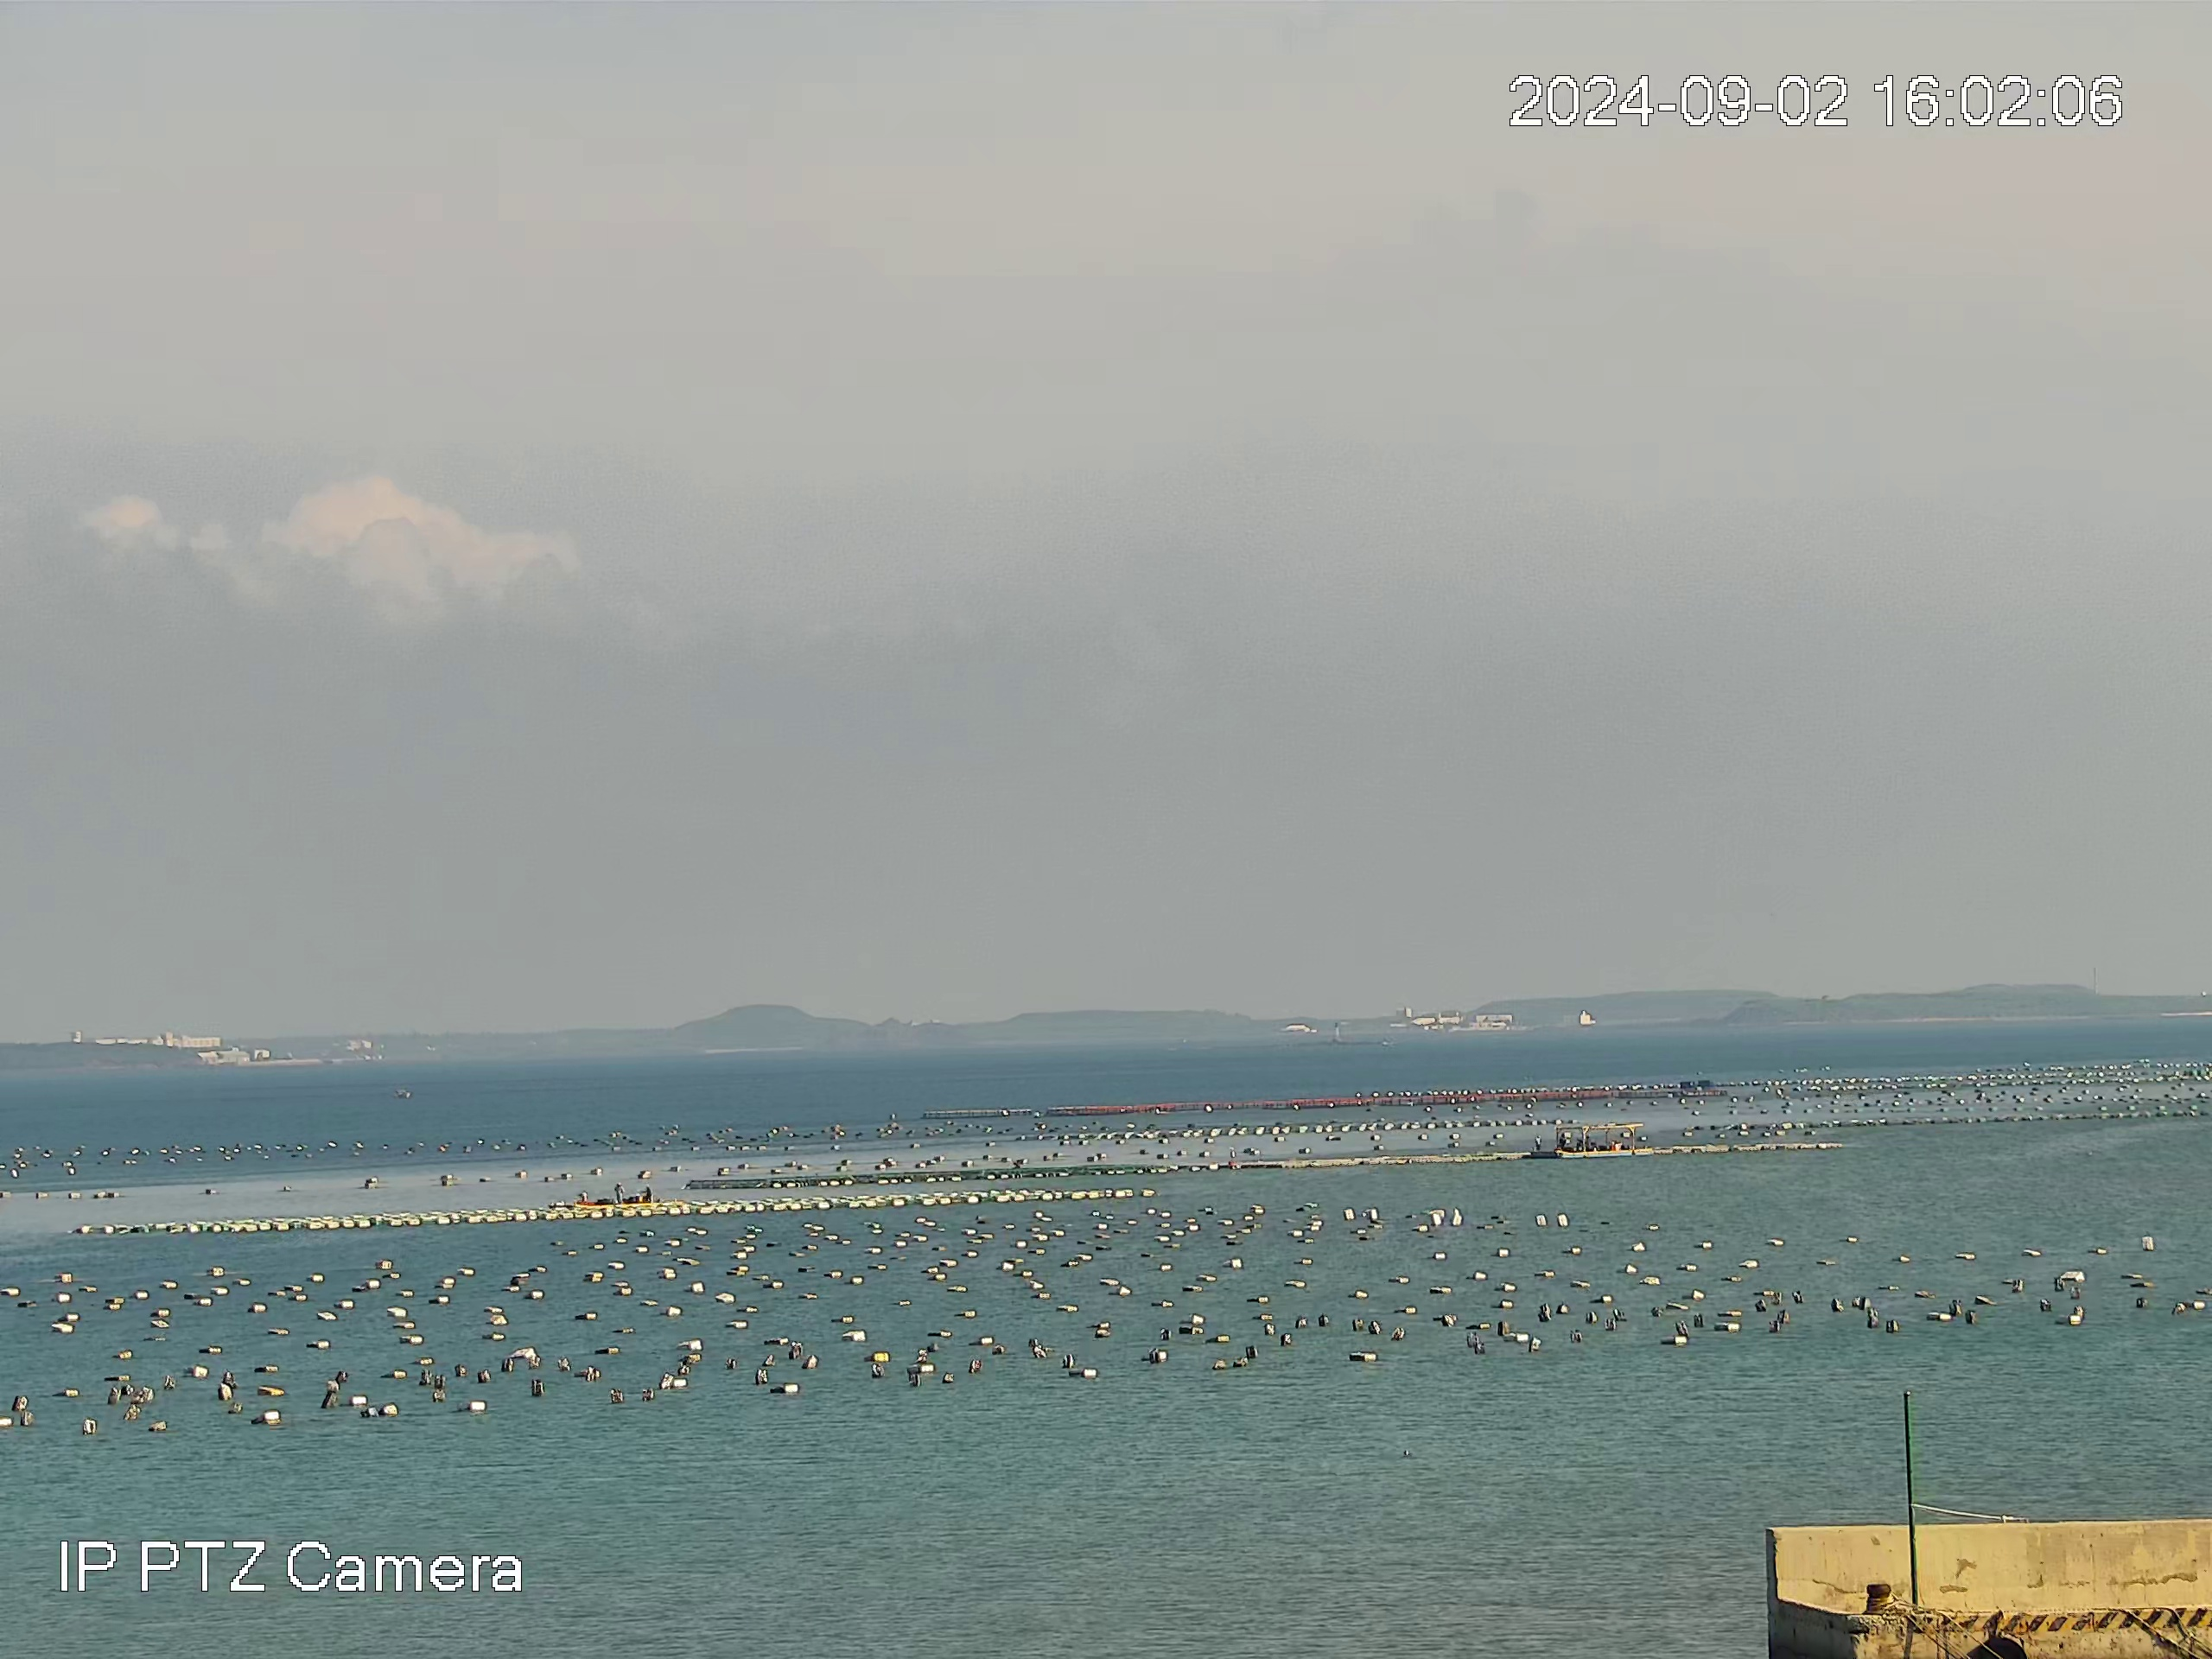boat: (1552, 1122, 1655, 1161), (573, 1182, 685, 1208), (392, 1087, 413, 1101)
